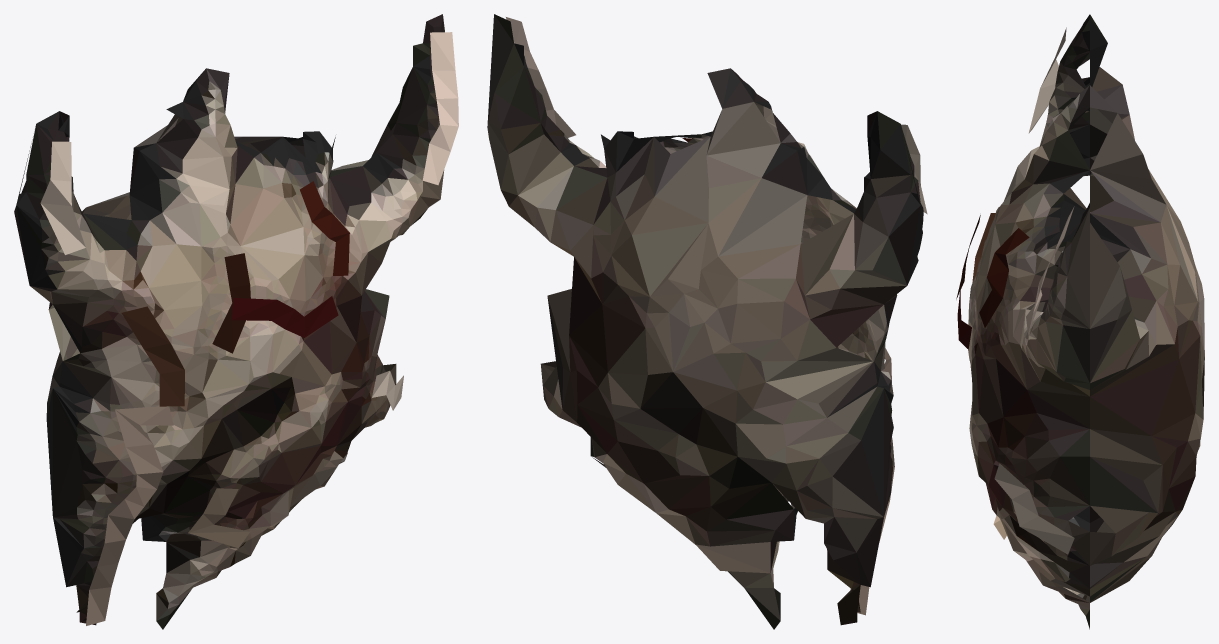
The picture shows the model from 3 angles, left to right: view 1: azimuth 30°, elevation 25°; view 2: azimuth 150°, elevation 25°; view 3: azimuth 270°, elevation 25°; orthographic projection. The views are drawn at different scales.
Visible parts, largest first — view 1: object 2, detail; view 2: object 2, detail; view 3: object 2, detail.
Part boxes in pixels (x1,y1,x2,y2): object 2: (14,14,444,629); detail: (40,32,458,625); object 2: (487,14,923,629); detail: (506,17,927,615); object 2: (968,14,1204,629); detail: (956,27,1074,554).
Size of the model in its own units: 130 by 158 by 62.87.
